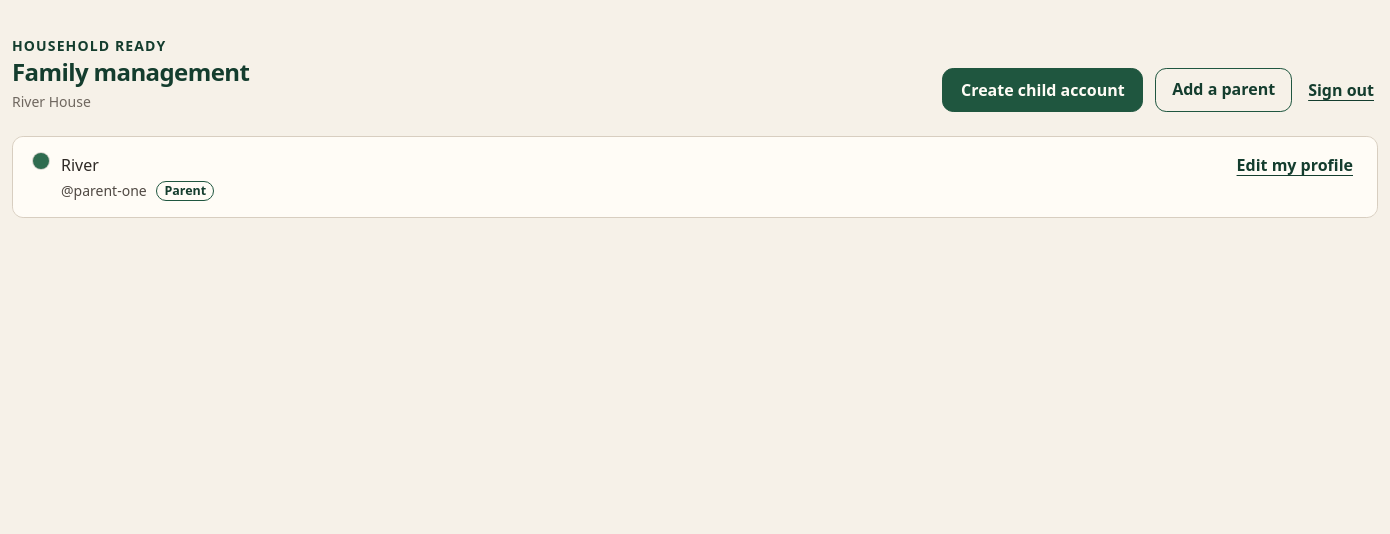
ProductionBootstrap › renders the family directory and lets a member edit only their own profile
expect the text "Pine" is not shown: met
Click the link with class "family-member__action". click: click(1295, 165)
box: [1237, 154, 1353, 176]
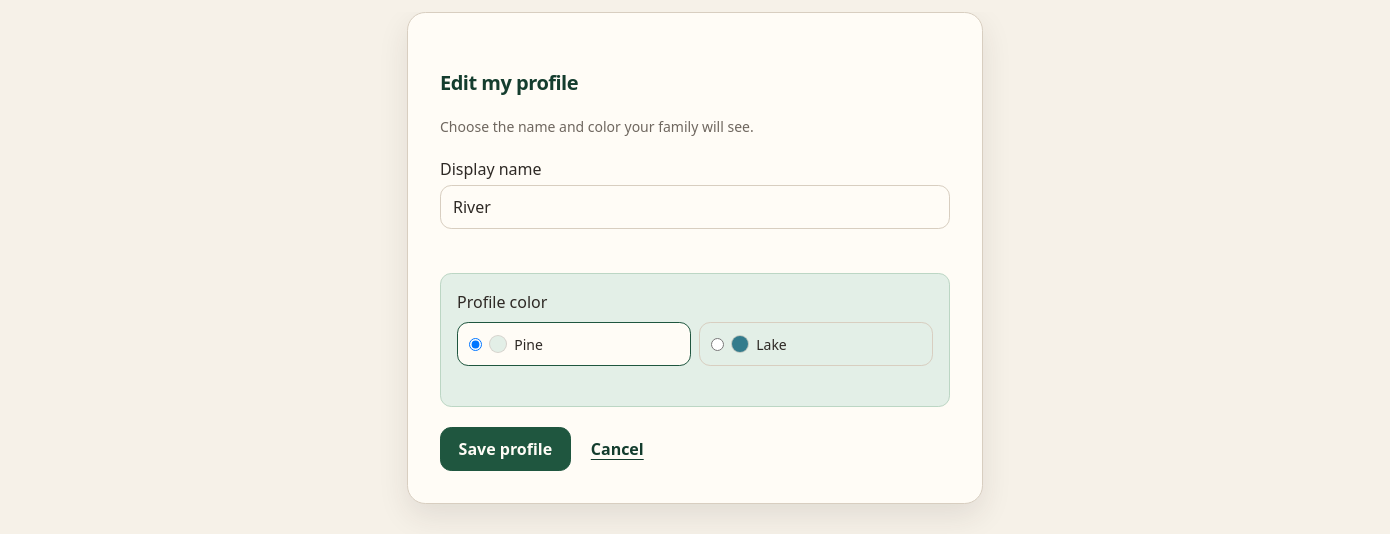
Replace the text in the field labelled "Display name" with "River Two". click: (695, 207)
box: [440, 185, 950, 229]
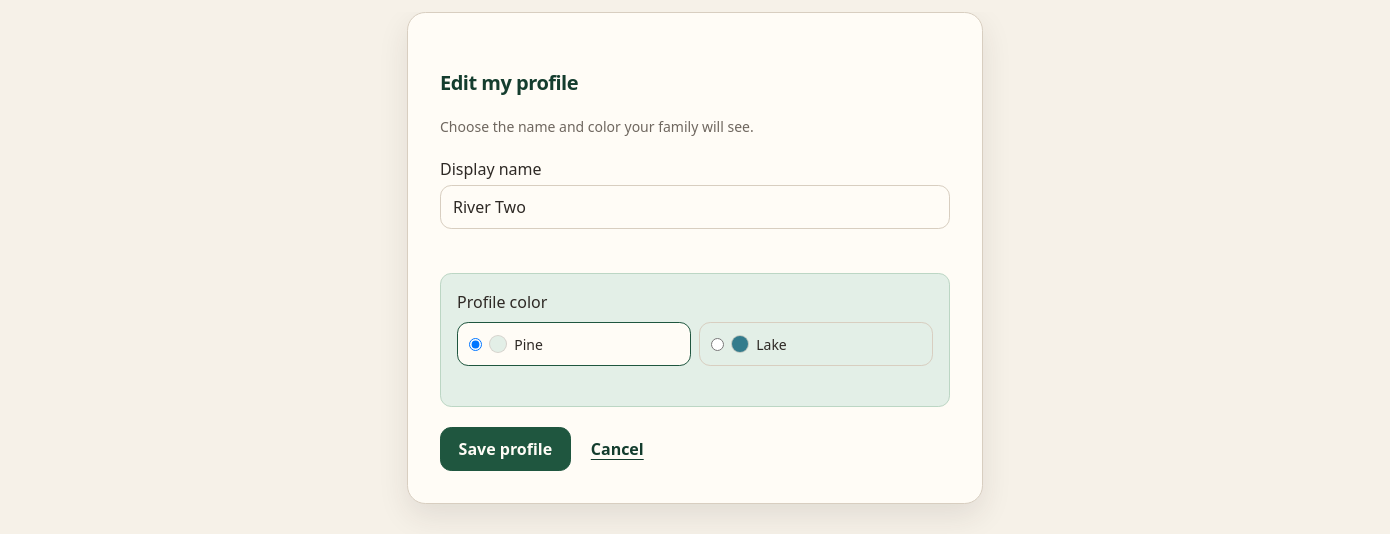
Click the radio button labelled "Lake". click: click(718, 344)
box: [711, 338, 724, 350]
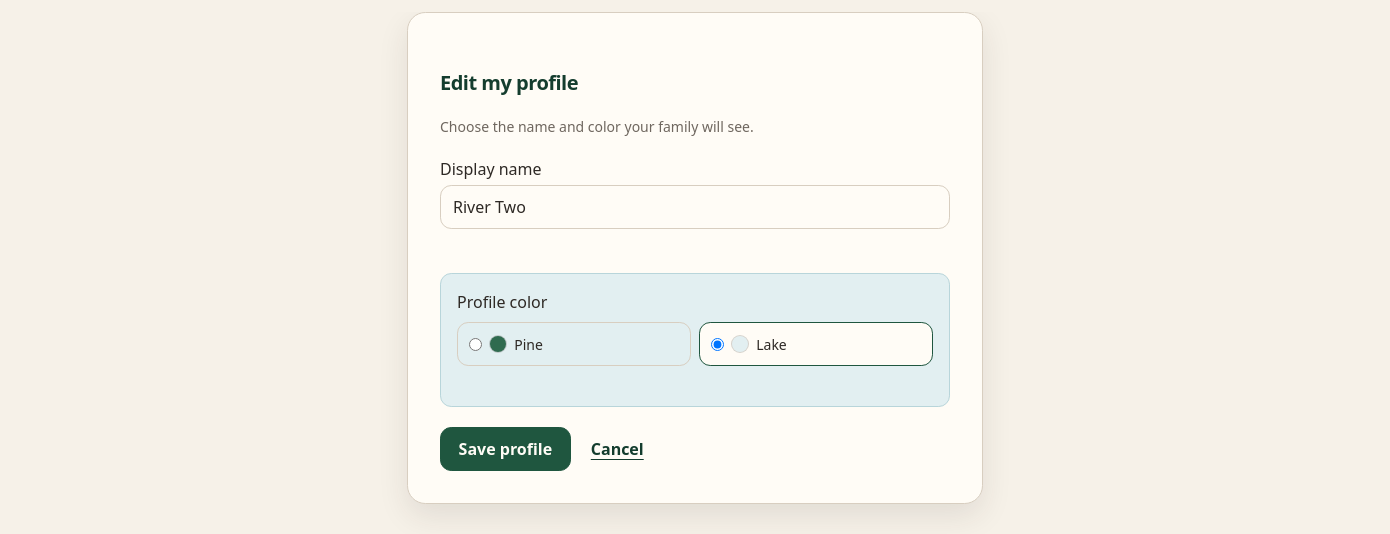
expect the element showing "Profile color Pine Lake" has attribute data-profile-color="LAKE": met, box [440, 273, 950, 407]
Submit the form, box [440, 69, 950, 471]
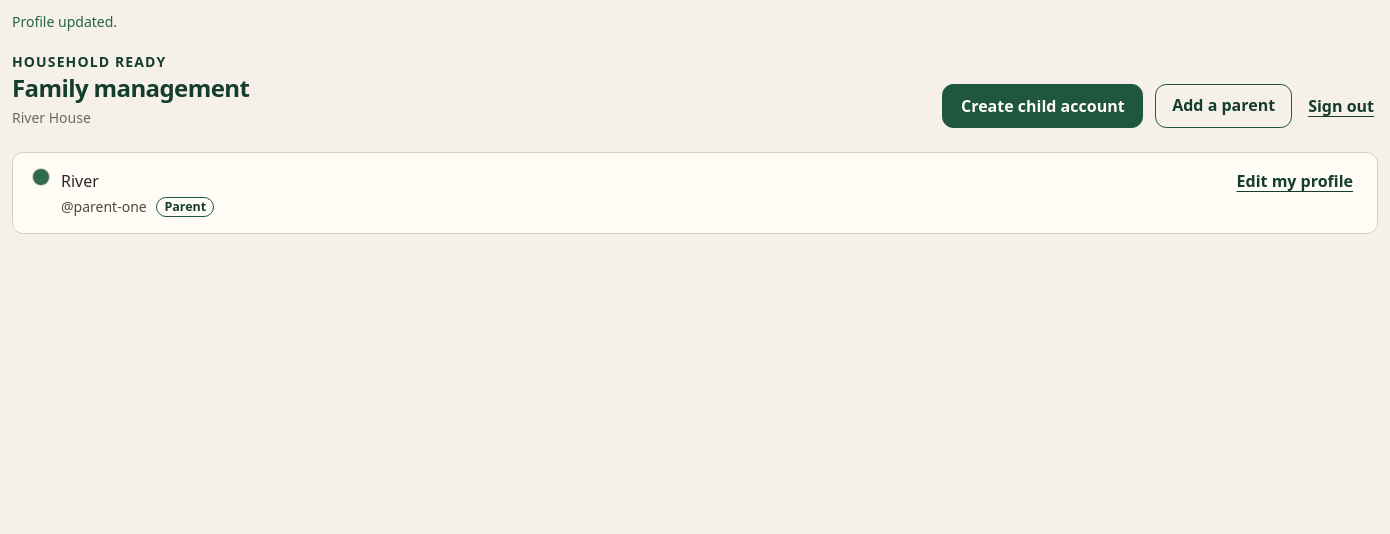
expect the text "Profile updated." is shown: met, box [12, 12, 117, 31]
